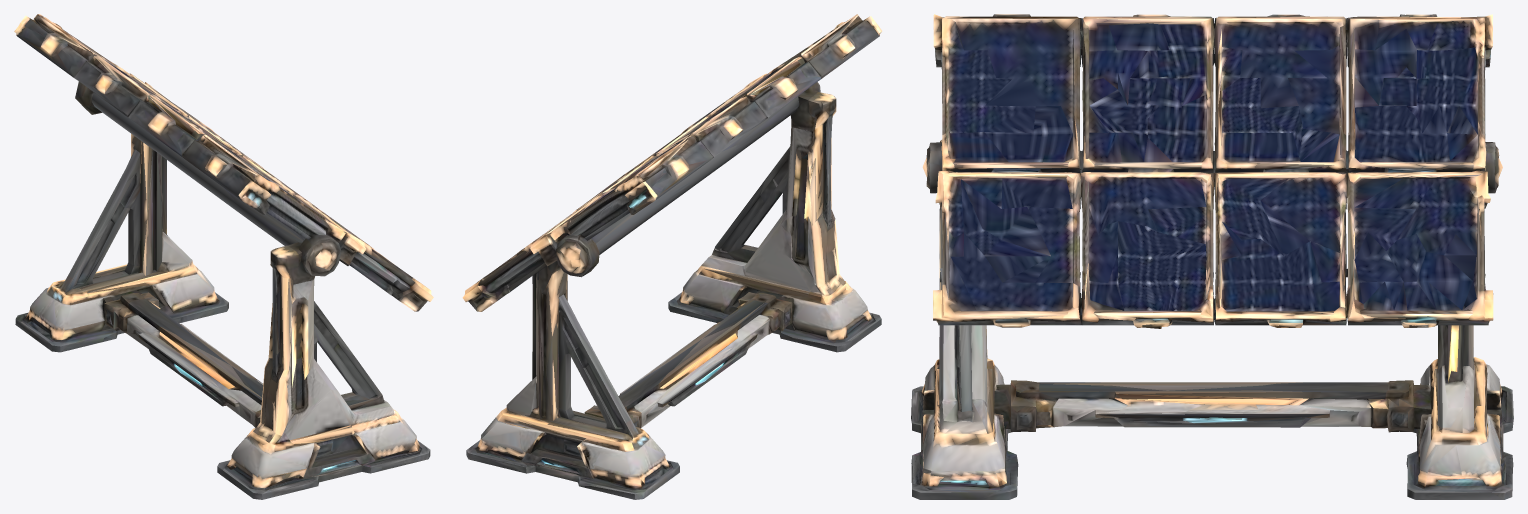
Rendered from solar_array.glb.
3 renders of one model, left to right at view 1: azimuth 30°, elevation 25°; view 2: azimuth 150°, elevation 25°; view 3: azimuth 270°, elevation 25°, orthographic. The views are drawn at different scales.
Parts seen in each view (by area): view 1: solar_array; view 2: solar_array; view 3: solar_array.
Boxes of the visible parts, x1,y1,x2,y2 form: solar_array: [14, 14, 433, 499]; solar_array: [462, 14, 882, 499]; solar_array: [911, 14, 1513, 499].
Size of the model in its own units: 4.56 by 7.02 by 9.96.
Materials: 1 (1 with a texture image).
